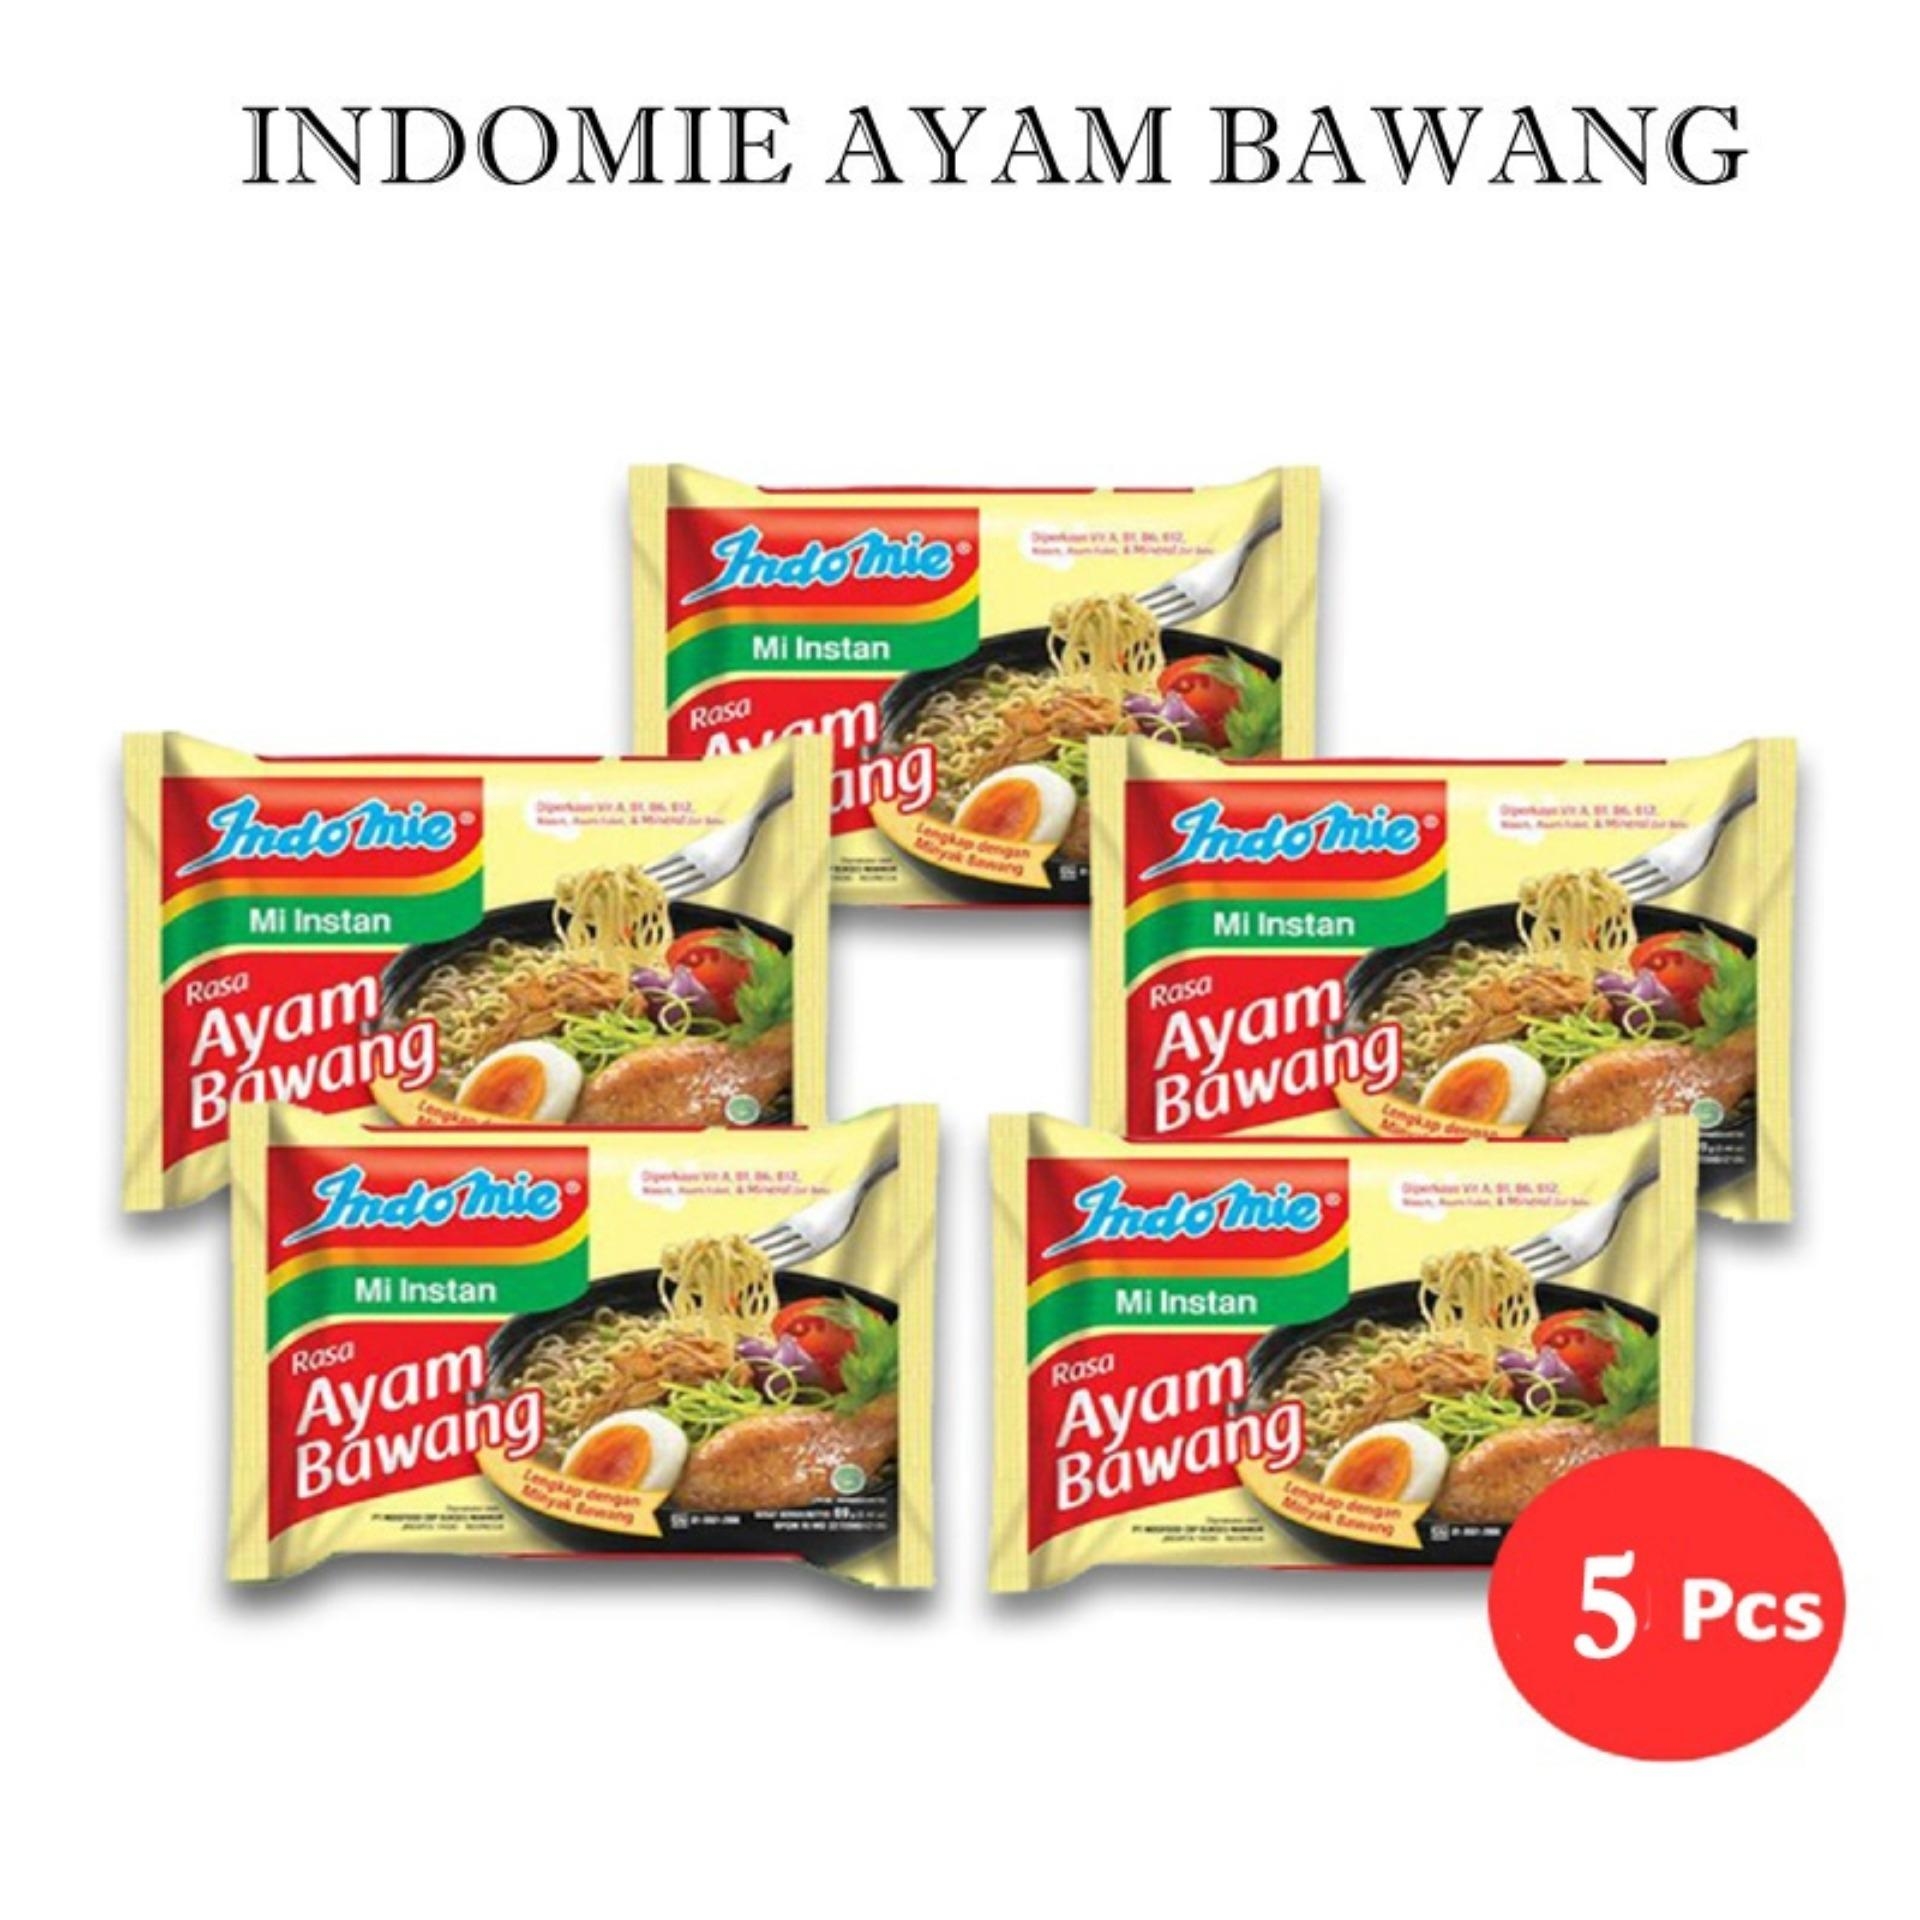indomie ayam bawang: (939, 1057, 1721, 1667), (104, 654, 846, 1266), (192, 1064, 951, 1640), (557, 375, 1305, 897), (1043, 686, 1830, 1146)
